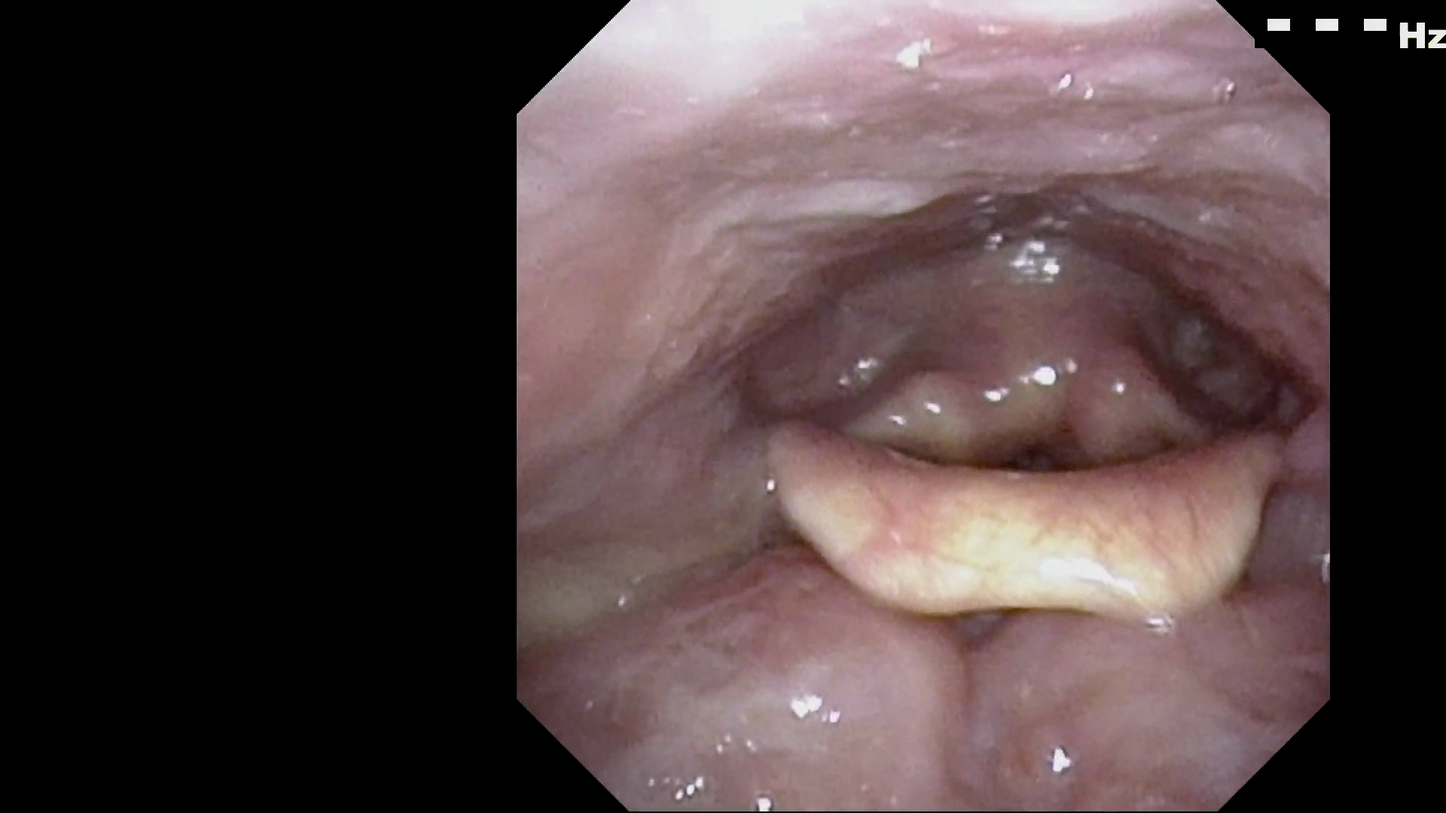epiglottis: (750, 388, 1301, 628)
trachea: (958, 379, 1105, 533)
